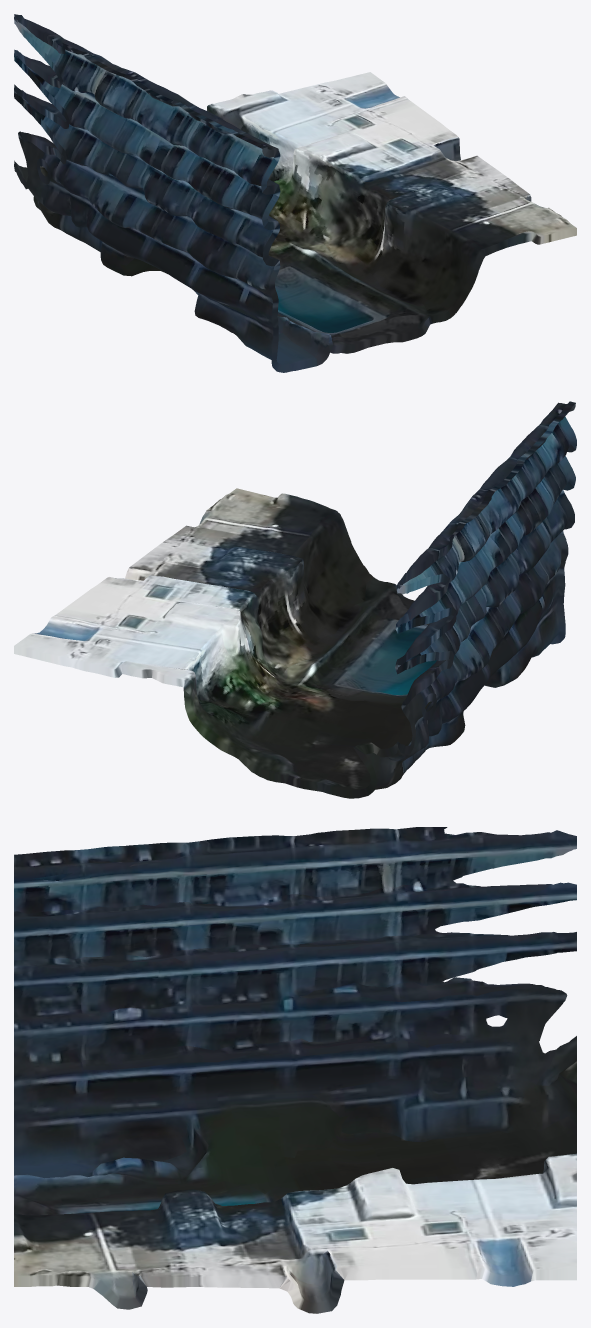
The model's file is z20-167730-405195-h0-yup-uvflip-v3-world.glb.
3 renders of one model, top to bottom at view 1: azimuth 30°, elevation 25°; view 2: azimuth 150°, elevation 25°; view 3: azimuth 270°, elevation 25°, orthographic. The views are drawn at different scales.
Size of the model in its own units: 30.2 by 18.68 by 30.32.
1 material, 1 textured.
